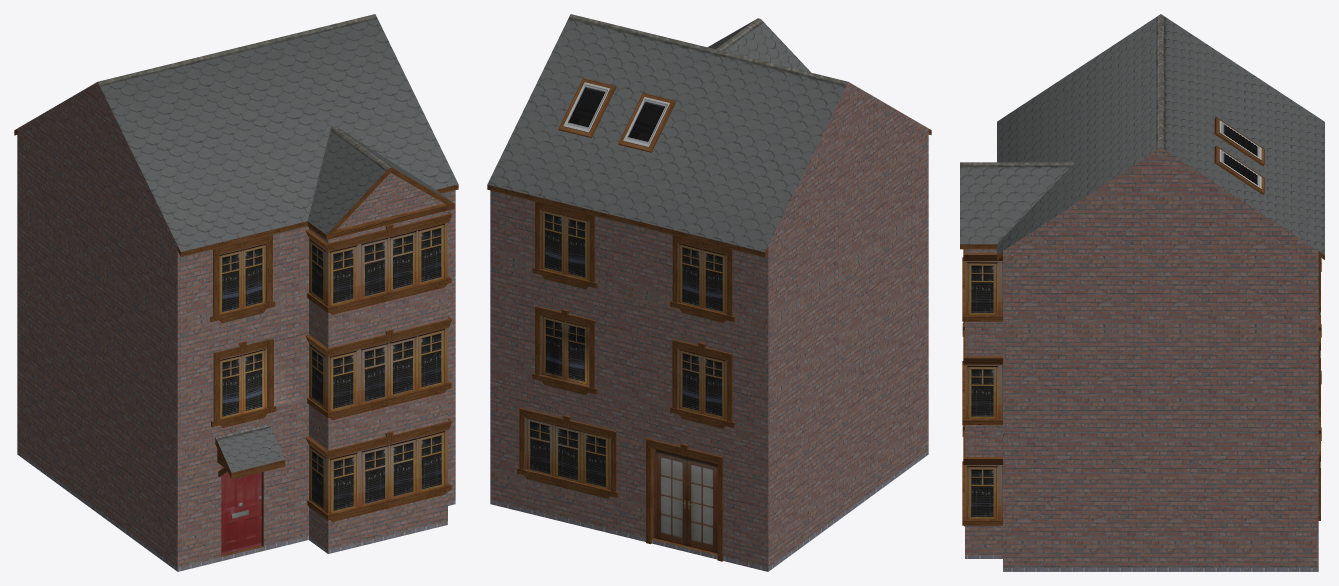
The model's file is modernterrace3story4c.FBX.
3 views of the same model, side by side, from view 1: azimuth 30°, elevation 25°; view 2: azimuth 150°, elevation 25°; view 3: azimuth 270°, elevation 25° (orthographic).
Parts seen in each view (by area): view 1: Box001; view 2: Box001; view 3: Box001.
Boxes of the visible parts, bbox=[...] form: Box001: bbox=[14, 14, 458, 571]; Box001: bbox=[487, 14, 931, 571]; Box001: bbox=[960, 14, 1324, 571].
Bounding box in the file's own units: 800 × 1188 × 925.
